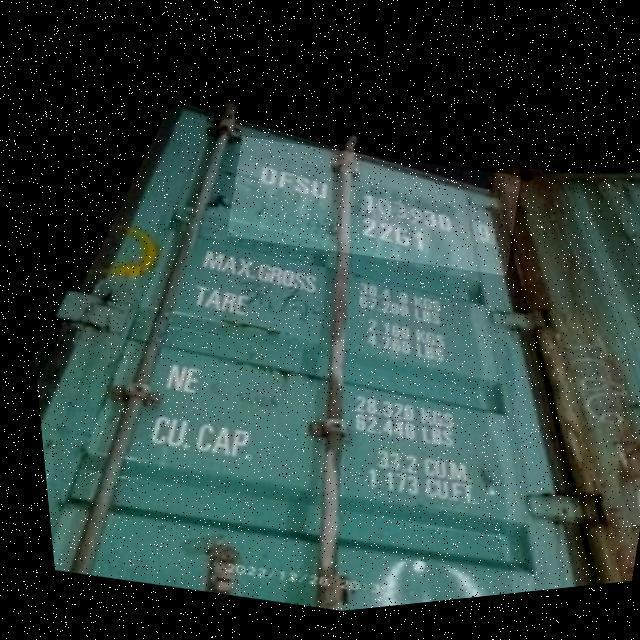container_number_h: (214, 119, 524, 308)
